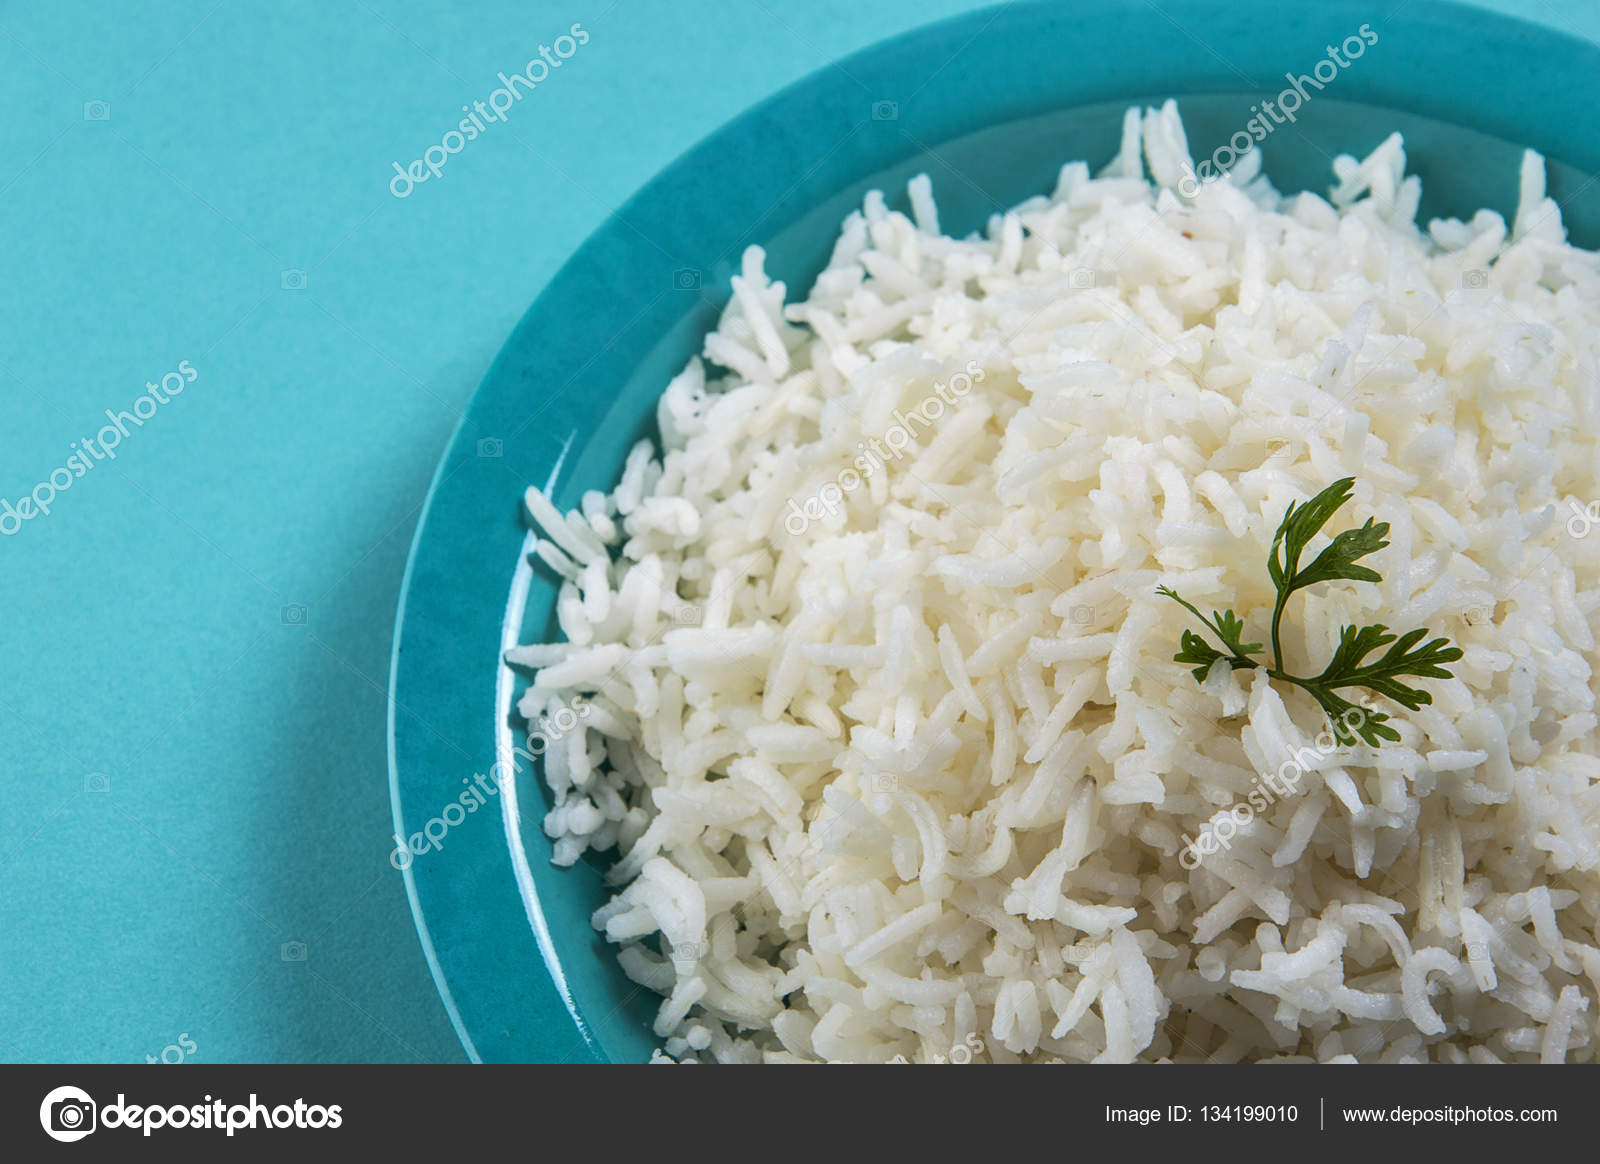plain rice: (800, 374, 1564, 966)
